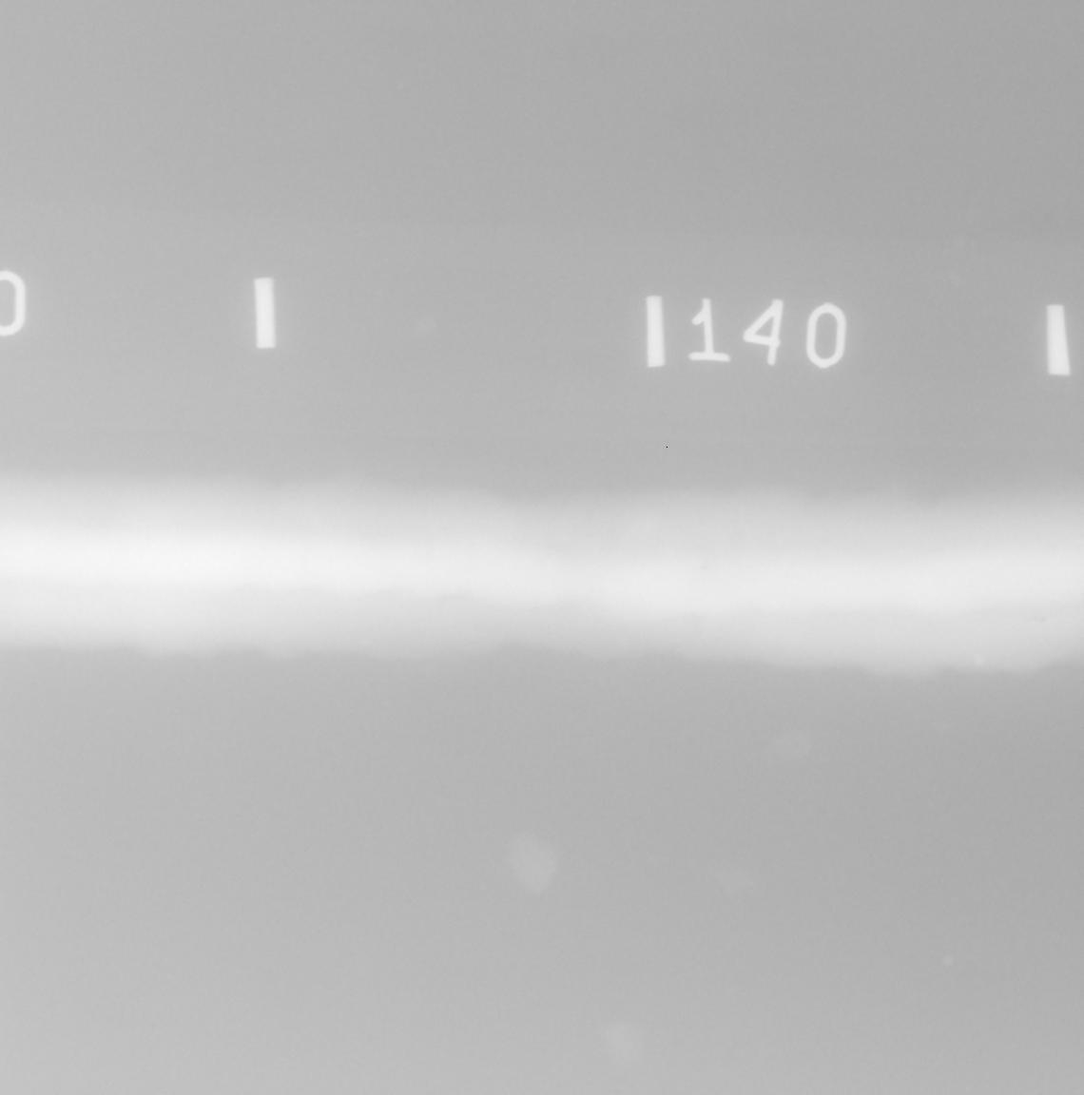Inclusion: (1026, 615, 1045, 622)
Pore/Porosity: (701, 565, 708, 570), (927, 622, 931, 626)
